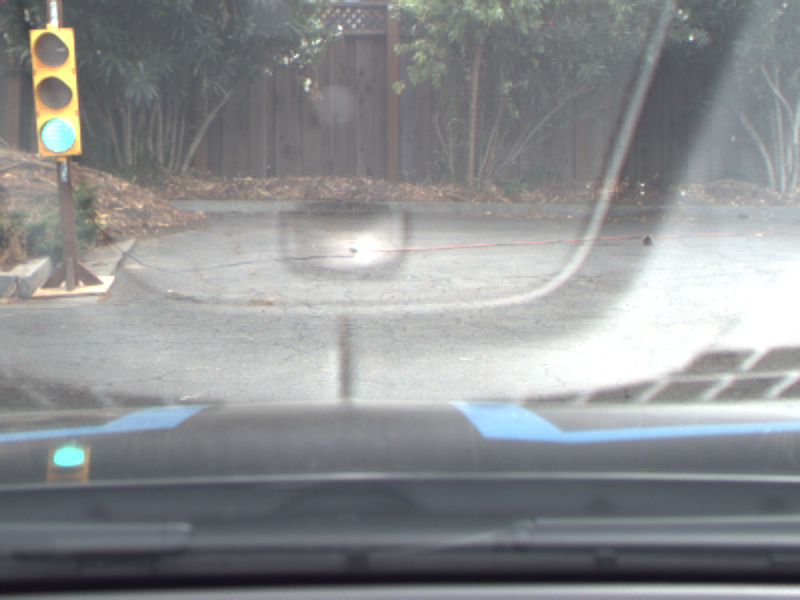green: (30, 30, 85, 158)
